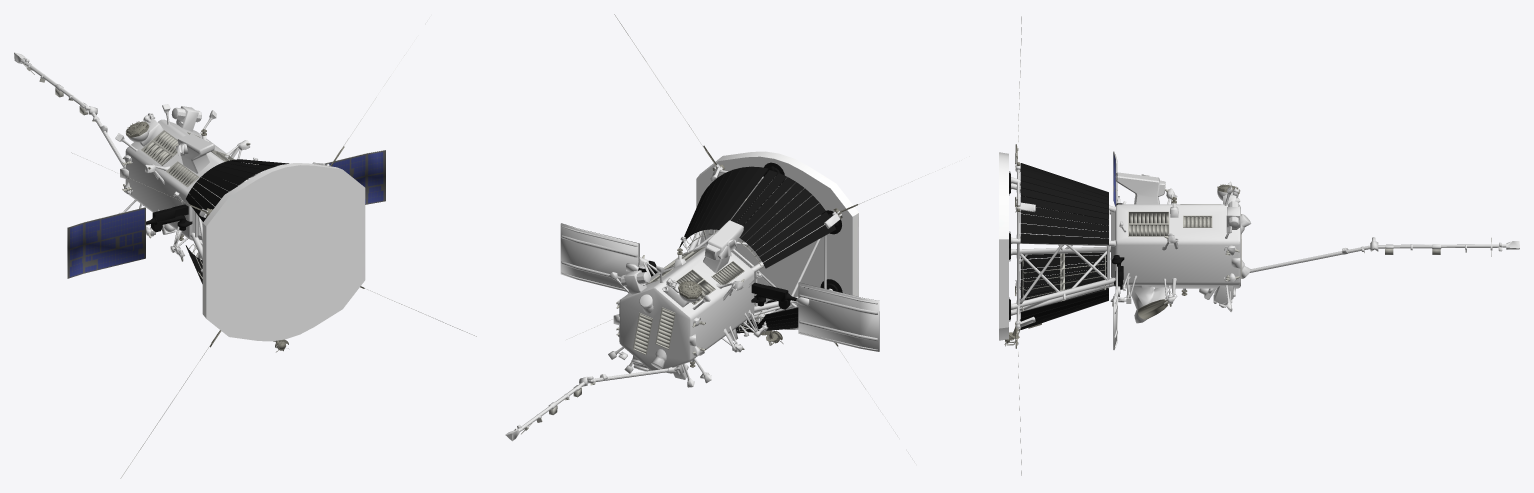
Rendered from parker_lod1.glb.
3 views of the same model, side by side, from view 1: azimuth 30°, elevation 25°; view 2: azimuth 150°, elevation 25°; view 3: azimuth 270°, elevation 25° (orthographic). The views are drawn at different scales.
Visible parts, largest first — view 1: parker_lod1; view 2: parker_lod1; view 3: parker_lod1.
Part boxes in pixels (x1=…): parker_lod1: x1=14, y1=52, x2=476, y2=478; parker_lod1: x1=505, y1=14, x2=969, y2=441; parker_lod1: x1=999, y1=16, x2=1519, y2=475.
Bounding box in the file's own units: 5.68 × 5.2 × 6.53.
6 materials, 1 textured.
